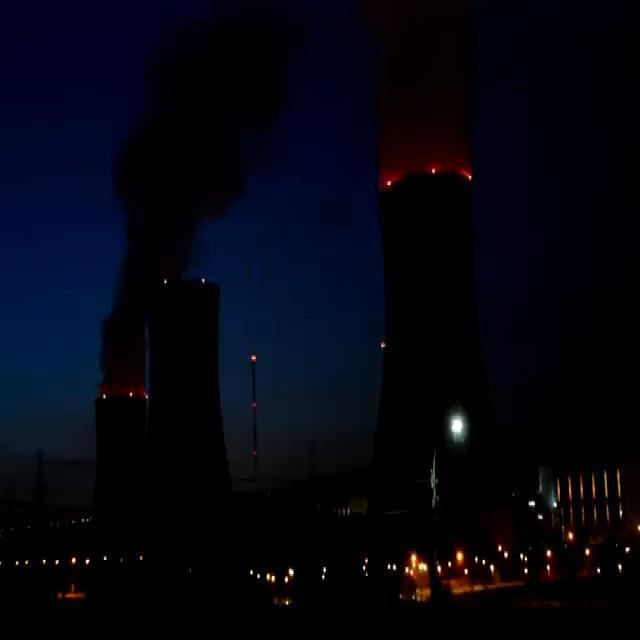smoke: (103, 0, 297, 382), (356, 0, 472, 192)
